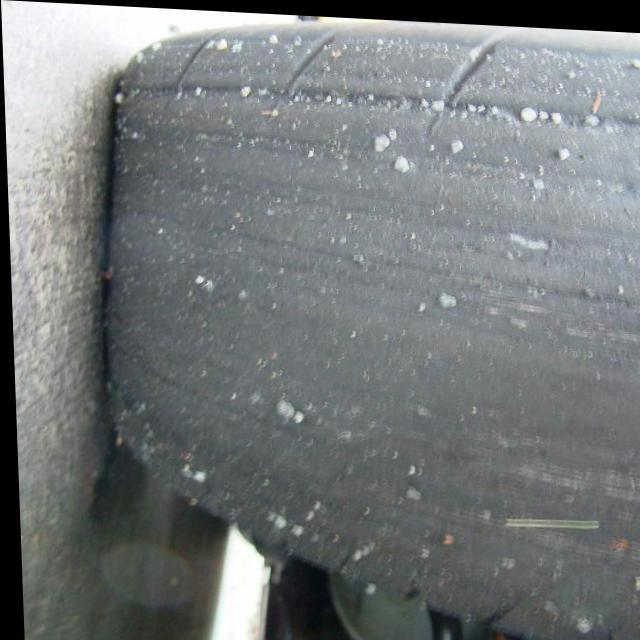Flat spots: (120, 50, 639, 509)
